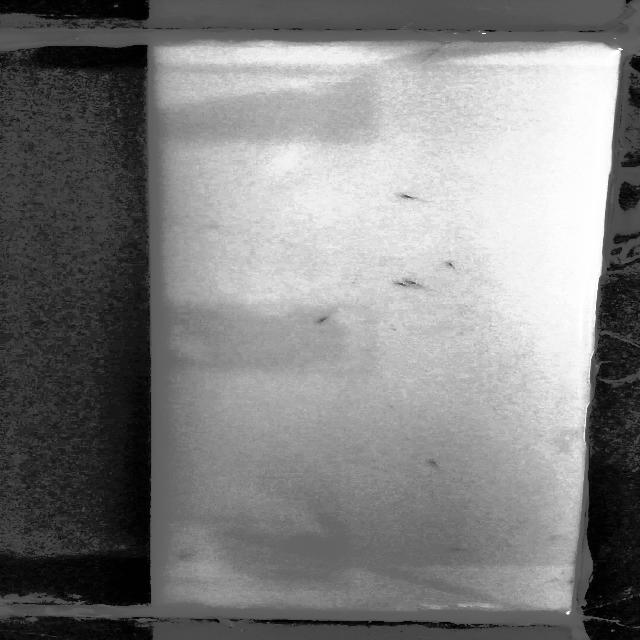shrimp: (396, 274, 431, 288), (178, 550, 209, 563), (317, 312, 339, 328), (442, 257, 465, 270), (392, 280, 416, 292), (420, 458, 447, 468), (447, 546, 474, 554), (402, 193, 422, 202)
